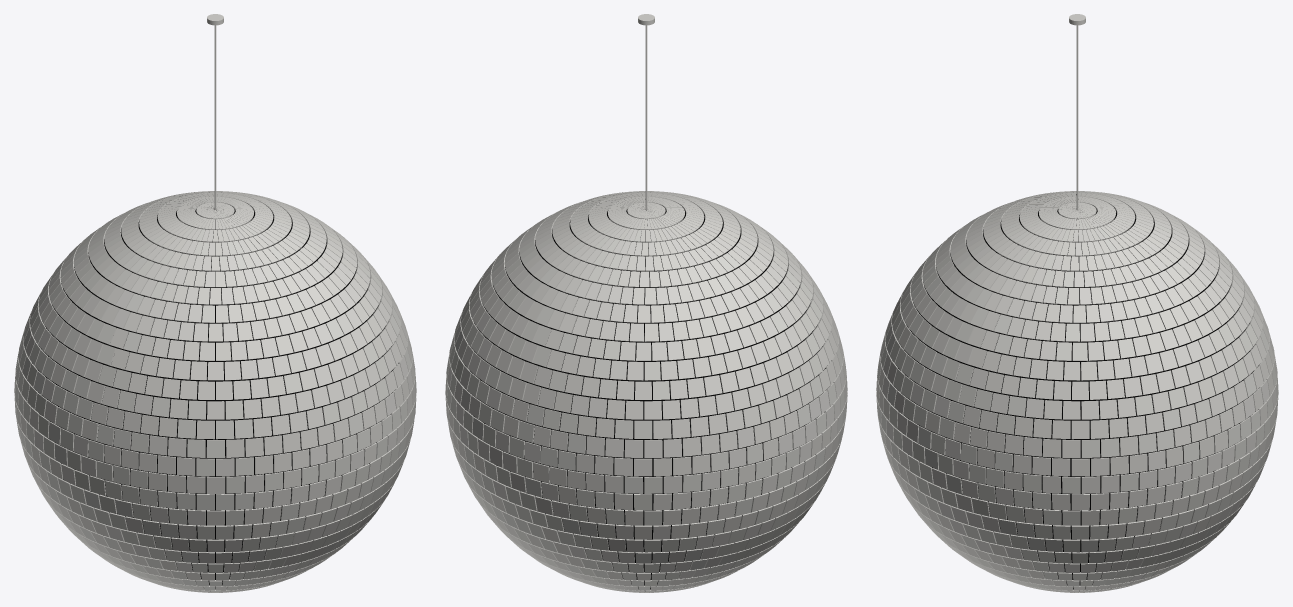
The picture shows the model from 3 angles, left to right: view 1: azimuth 30°, elevation 25°; view 2: azimuth 150°, elevation 25°; view 3: azimuth 270°, elevation 25°; orthographic projection.
Parts seen in each view (by area): view 1: disco_ball; view 2: disco_ball; view 3: disco_ball.
Part boxes in pixels (x1,y1,x2,y2): disco_ball: (14,14,416,592); disco_ball: (445,14,847,592); disco_ball: (876,14,1278,592).
Bounding box in the file's own units: 120 × 183 × 120.
2 materials, 2 textured.
